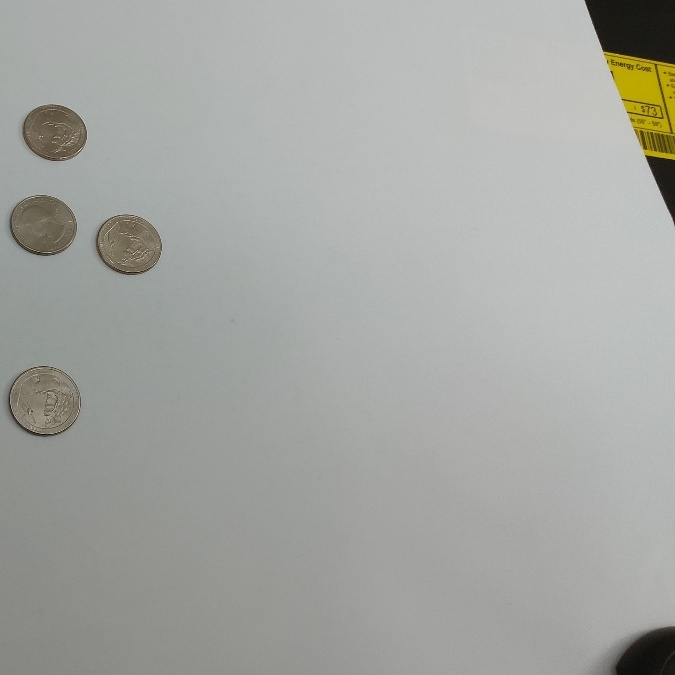coin_quarter: (8, 360, 84, 435), (2, 192, 79, 262), (95, 207, 165, 279), (19, 101, 89, 166)
